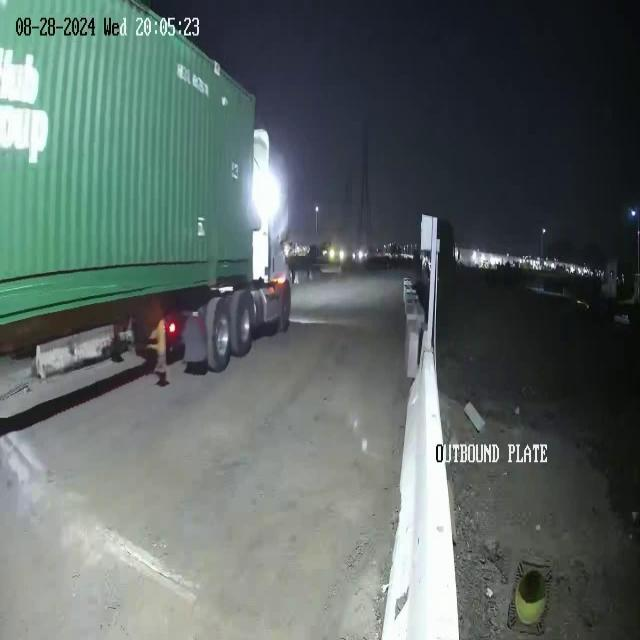TRUCK_CONTAINER: (1, 1, 291, 427)
